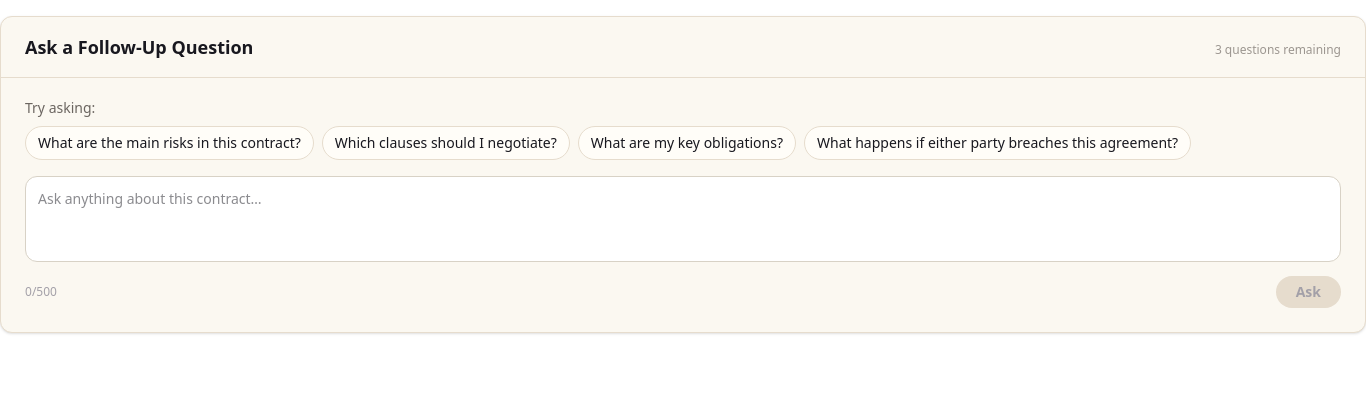
FollowUpInput › shows error on 429 response
In the text box named "Follow-up question": point(683, 219) [25,176,1341,262], type "Test question?"
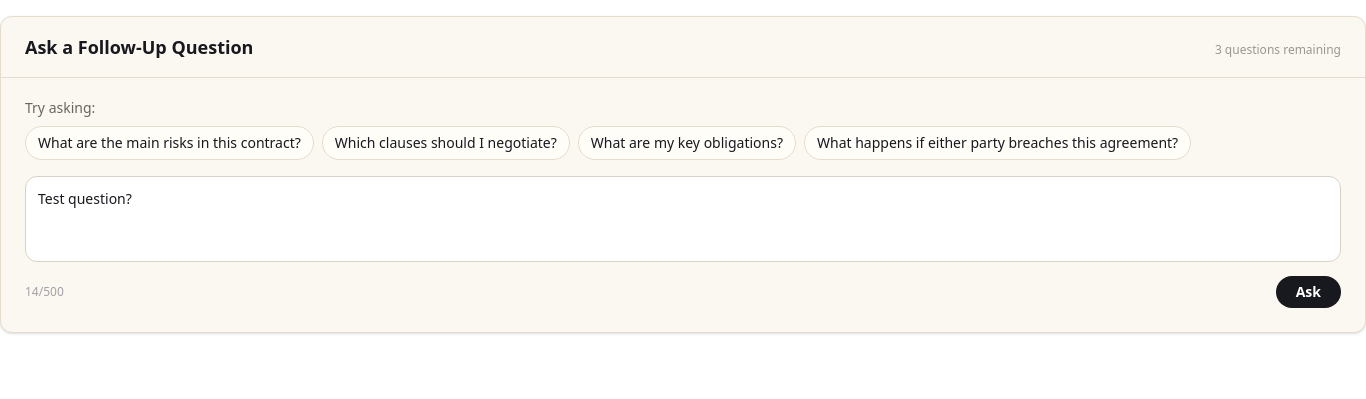
Click the button "Ask": point(1308, 292) [1276,276,1341,308]
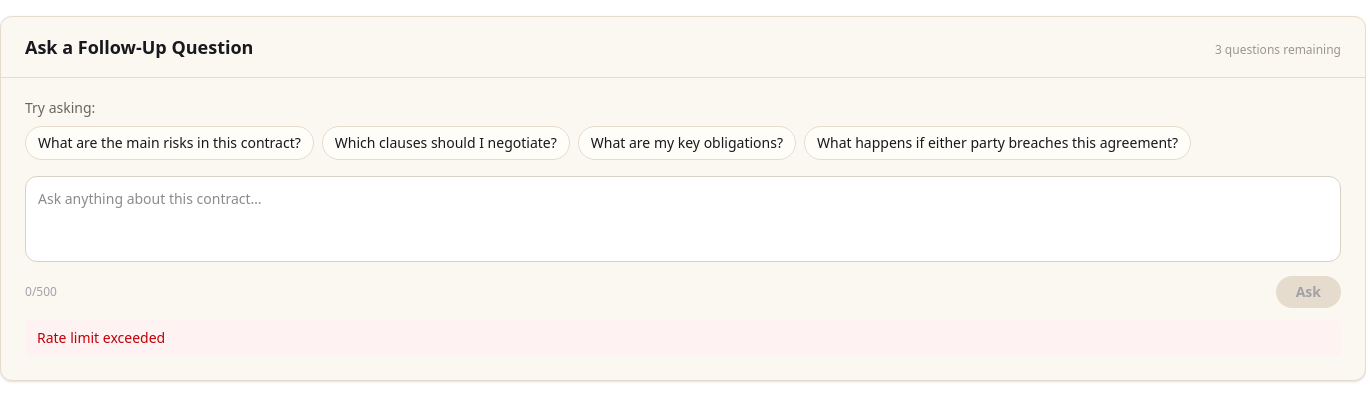
Expected: the text "Rate limit exceeded" is shown, [25,320,1341,356]
